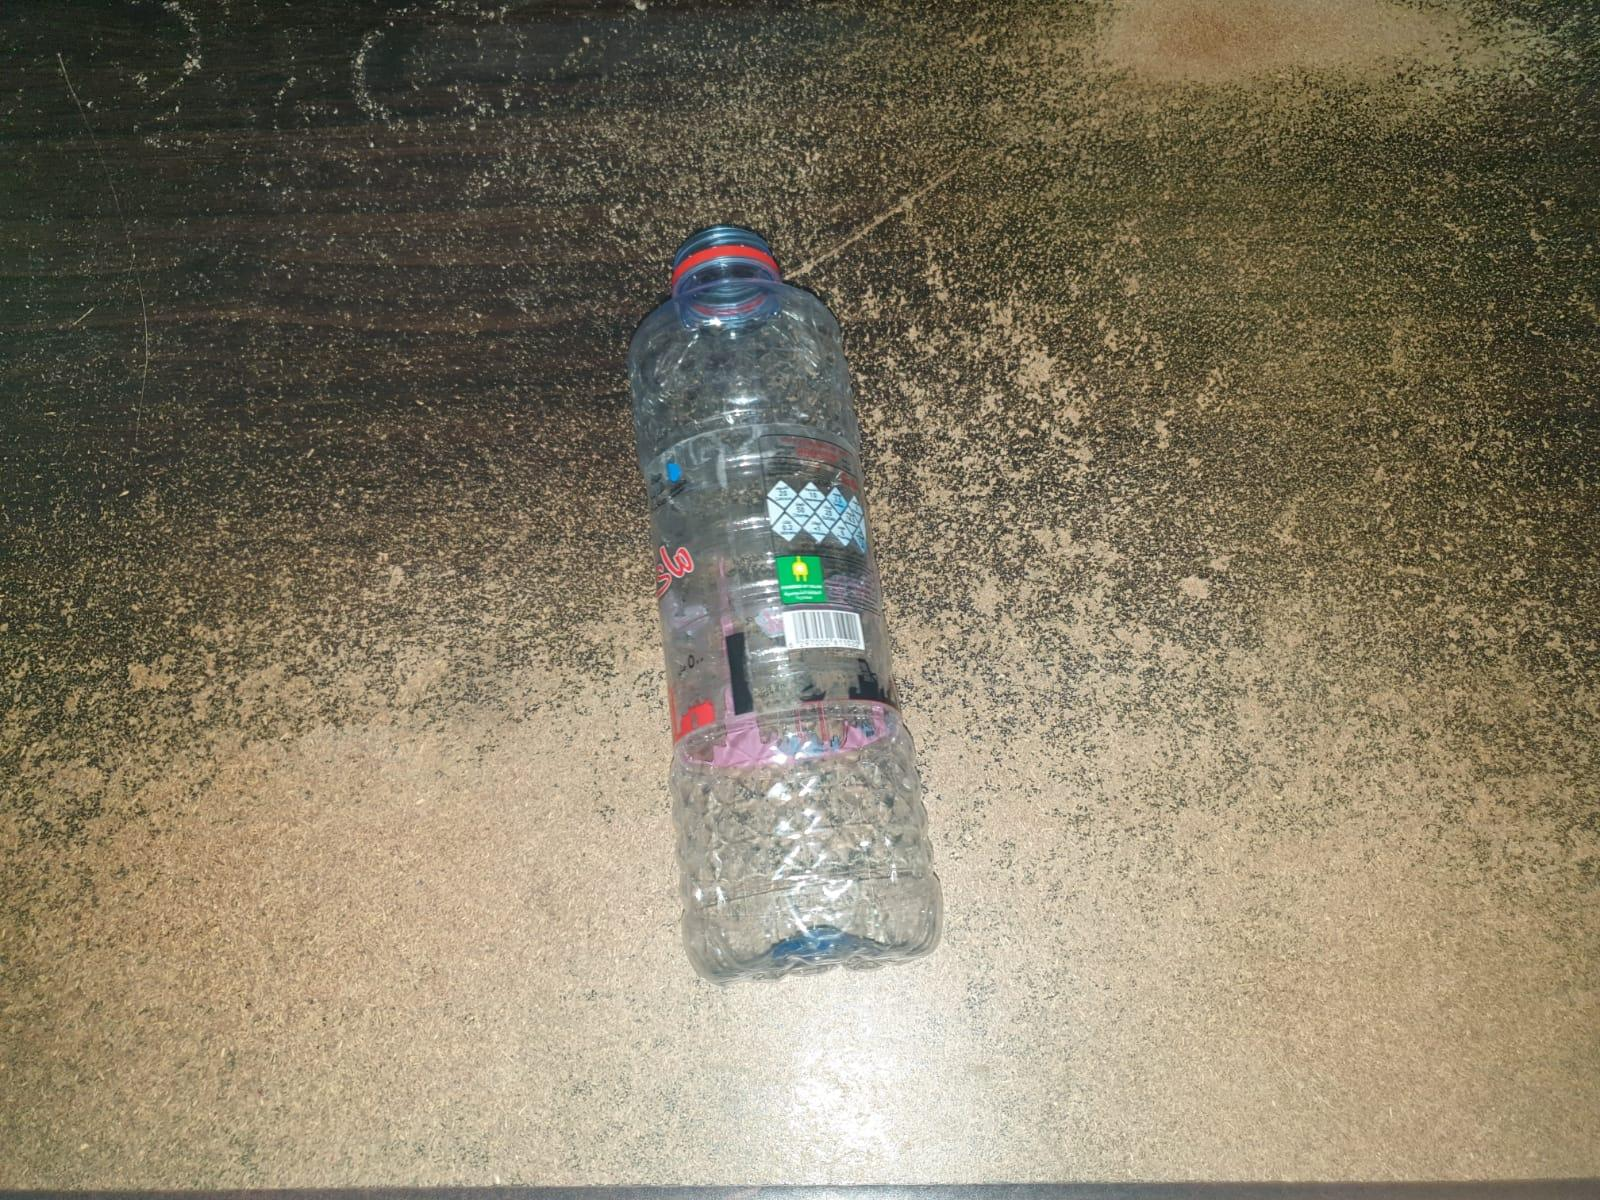bottle: (614, 208, 946, 984)
